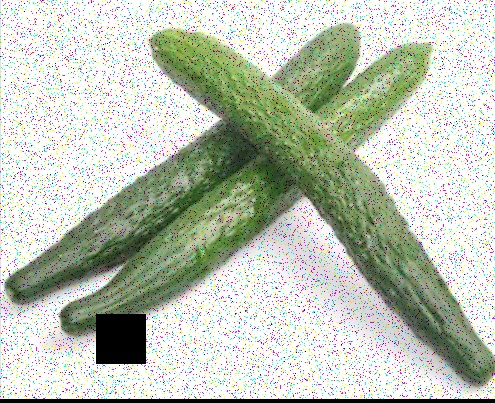cucumber: (154, 26, 492, 376), (70, 40, 432, 337), (7, 24, 355, 289)
